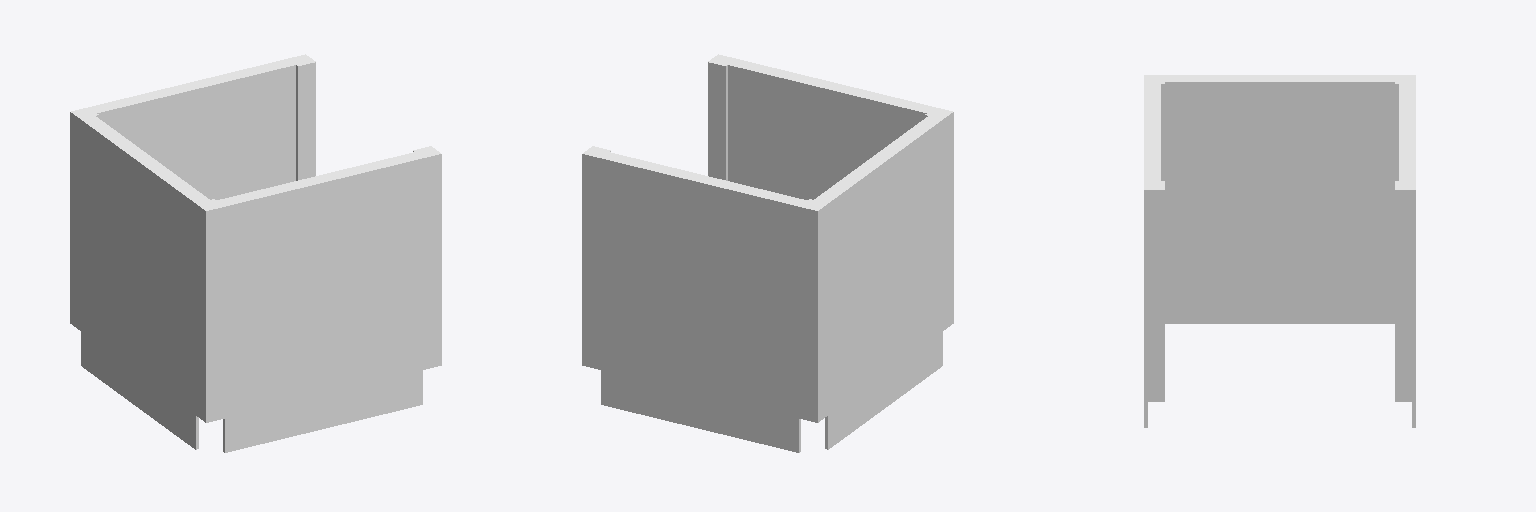
Rendered from Wall-1110.obj.
3 renders of one model, left to right at view 1: azimuth 30°, elevation 25°; view 2: azimuth 150°, elevation 25°; view 3: azimuth 270°, elevation 25°, orthographic.
Size of the model in its own units: 64 by 64 by 64.